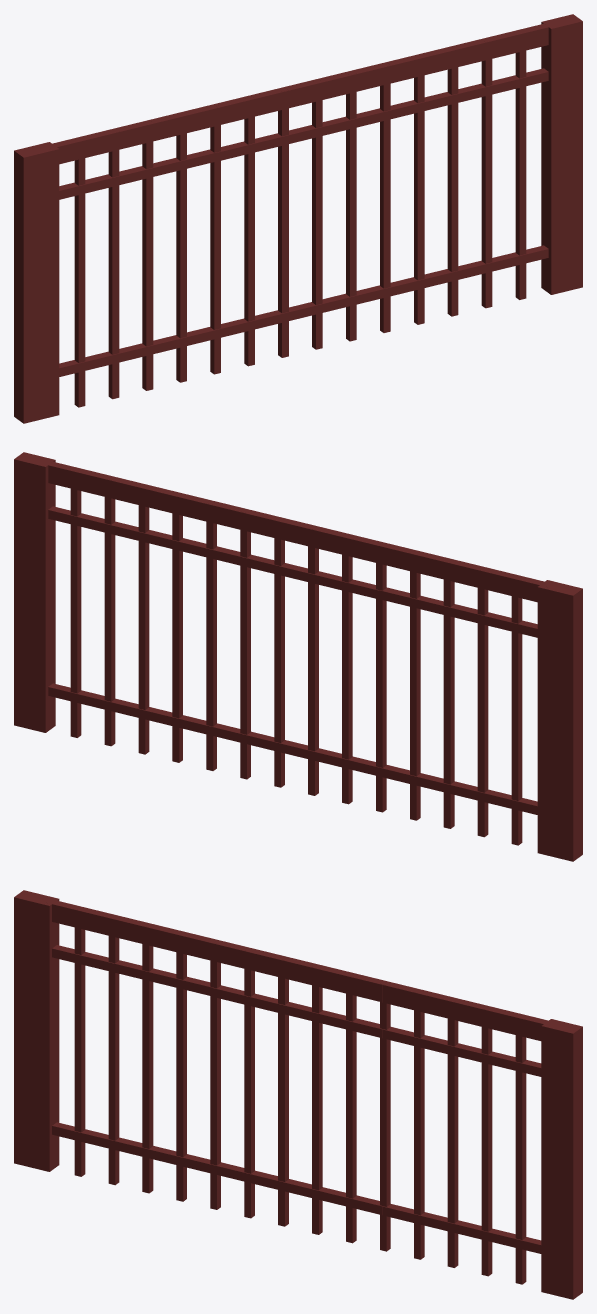
File: rejacercamonoblock.fbx
3 renders of one model, top to bottom at view 1: azimuth 30°, elevation 25°; view 2: azimuth 150°, elevation 25°; view 3: azimuth 330°, elevation 25°, orthographic.
Parts seen in each view (by area): view 1: fence3_04; view 2: fence3_04; view 3: fence3_04.
Boxes of the visible parts, x1=… form: fence3_04: x1=14, y1=14, x2=582, y2=423; fence3_04: x1=14, y1=452, x2=582, y2=861; fence3_04: x1=14, y1=890, x2=582, y2=1299.
Size of the model in its own units: 330 by 150 by 10.
3 materials, 3 textured.
